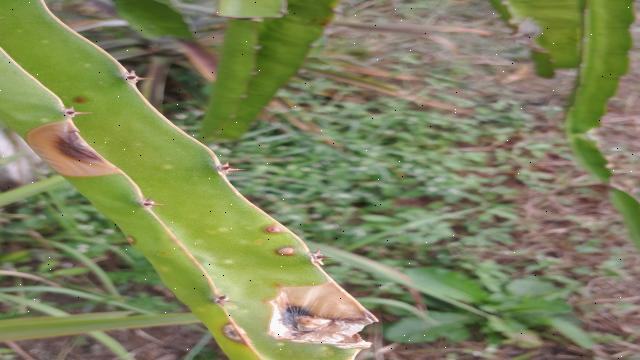stemcanker: (272, 242, 298, 260), (262, 221, 289, 237)
